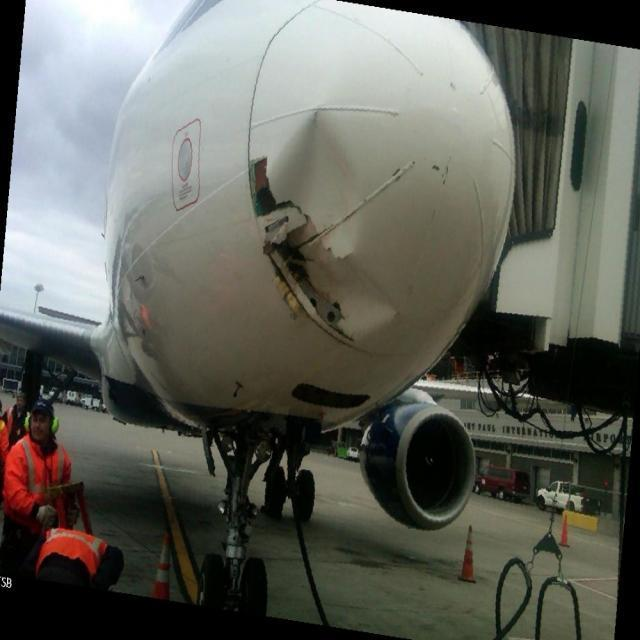dent: (269, 109, 361, 245), (337, 254, 401, 334)
